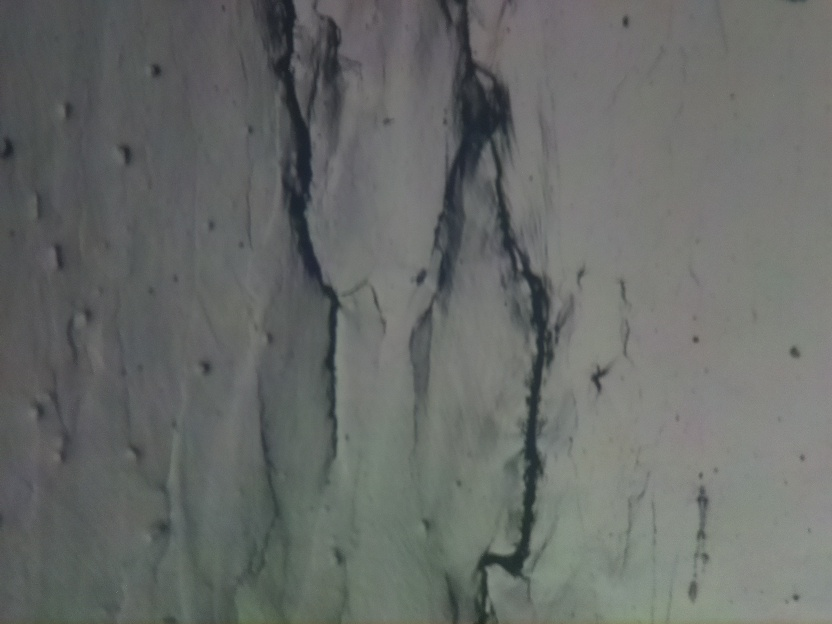crack: (412, 0, 564, 624), (270, 0, 339, 449)
